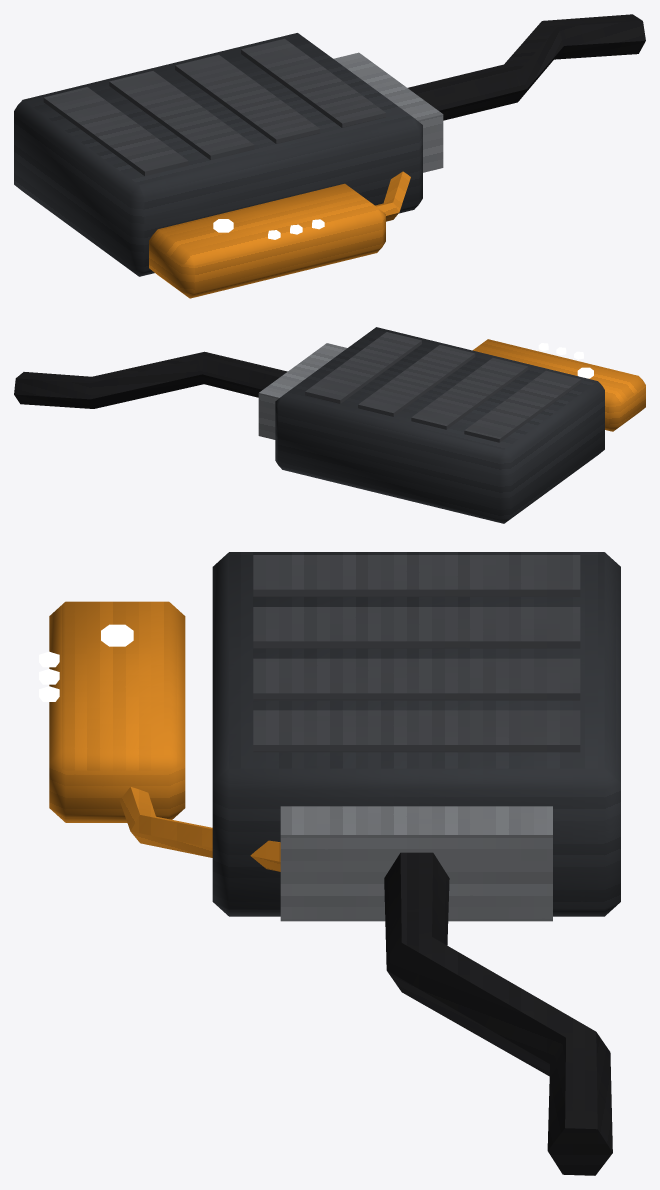
Rendered from ecu_n3.glb.
3 views of the same model, one above another, from view 1: azimuth 30°, elevation 25°; view 2: azimuth 150°, elevation 25°; view 3: azimuth 270°, elevation 25° (orthographic). The views are drawn at different scales.
Parts seen in each view (by area): view 1: ecu_n3; view 2: ecu_n3; view 3: ecu_n3.
Boxes of the visible parts, x1,y1,x2,y2 form: ecu_n3: (14, 14, 645, 298); ecu_n3: (14, 327, 645, 523); ecu_n3: (39, 552, 620, 1175).
Size of the model in its own units: 0.4217 by 0.0635 by 0.2138.
Materials: 3 (3 with a texture image).
